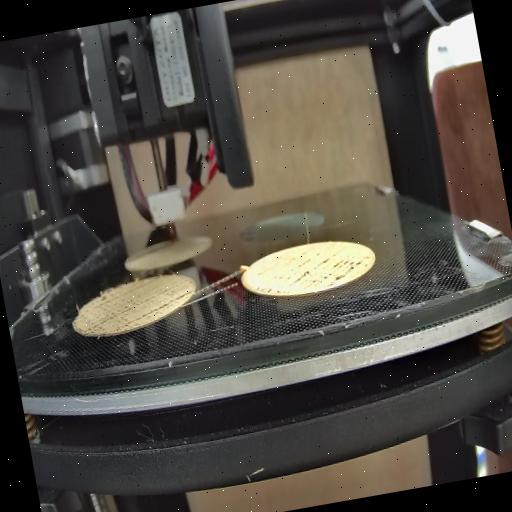under_extrusion: (252, 246, 374, 296), (83, 276, 197, 328)
